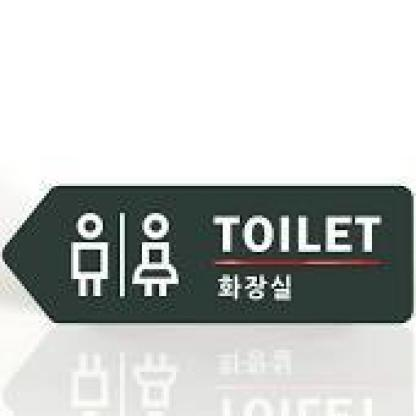toilet: (64, 201, 186, 308)
